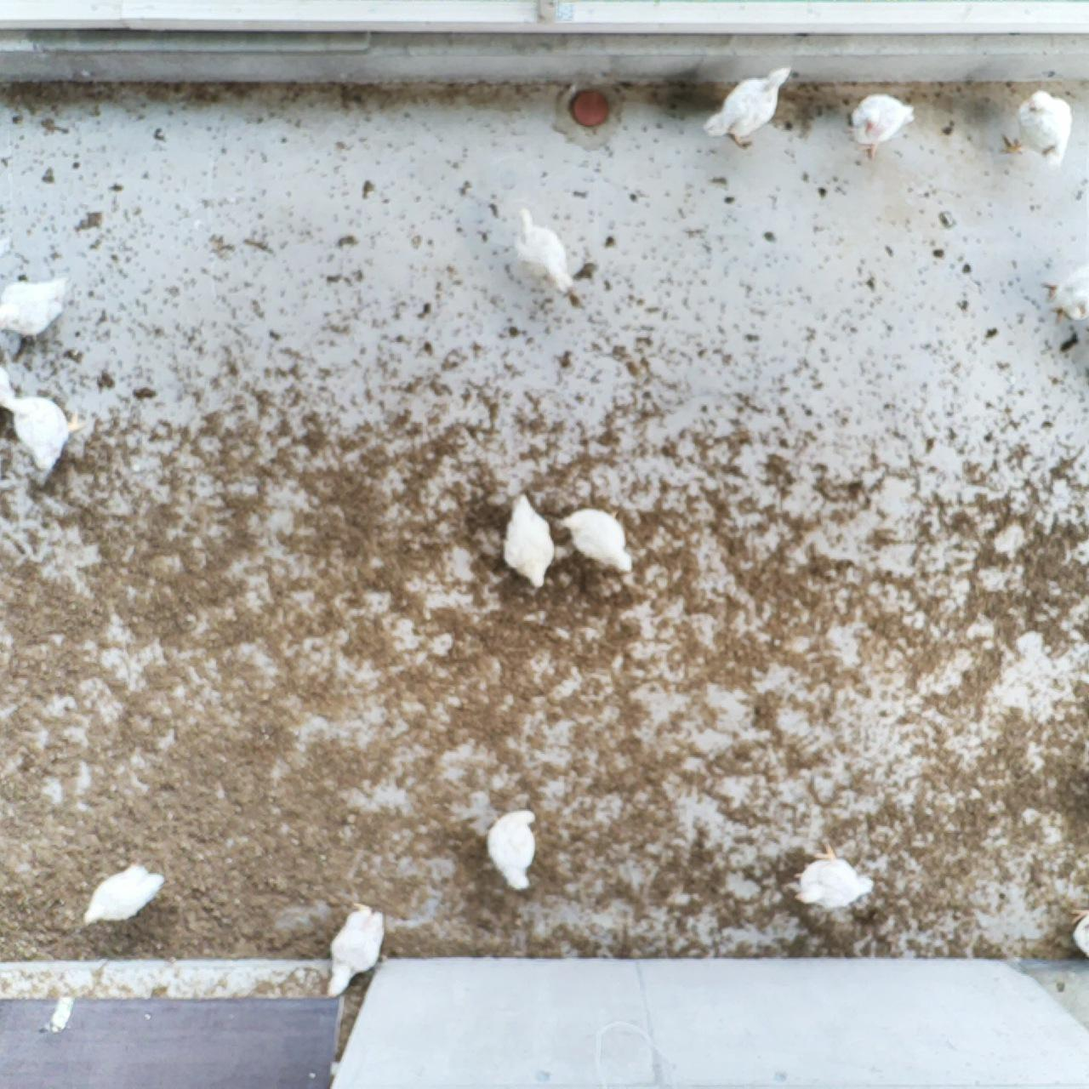chicken: (0, 371, 86, 482), (707, 64, 796, 151), (321, 901, 386, 1010), (787, 843, 876, 912), (498, 489, 555, 591), (1000, 90, 1073, 168), (79, 862, 167, 926), (844, 90, 919, 162), (556, 505, 632, 576), (514, 208, 574, 297), (0, 270, 66, 343), (485, 807, 539, 892), (1041, 260, 1089, 331), (1058, 908, 1089, 964)
